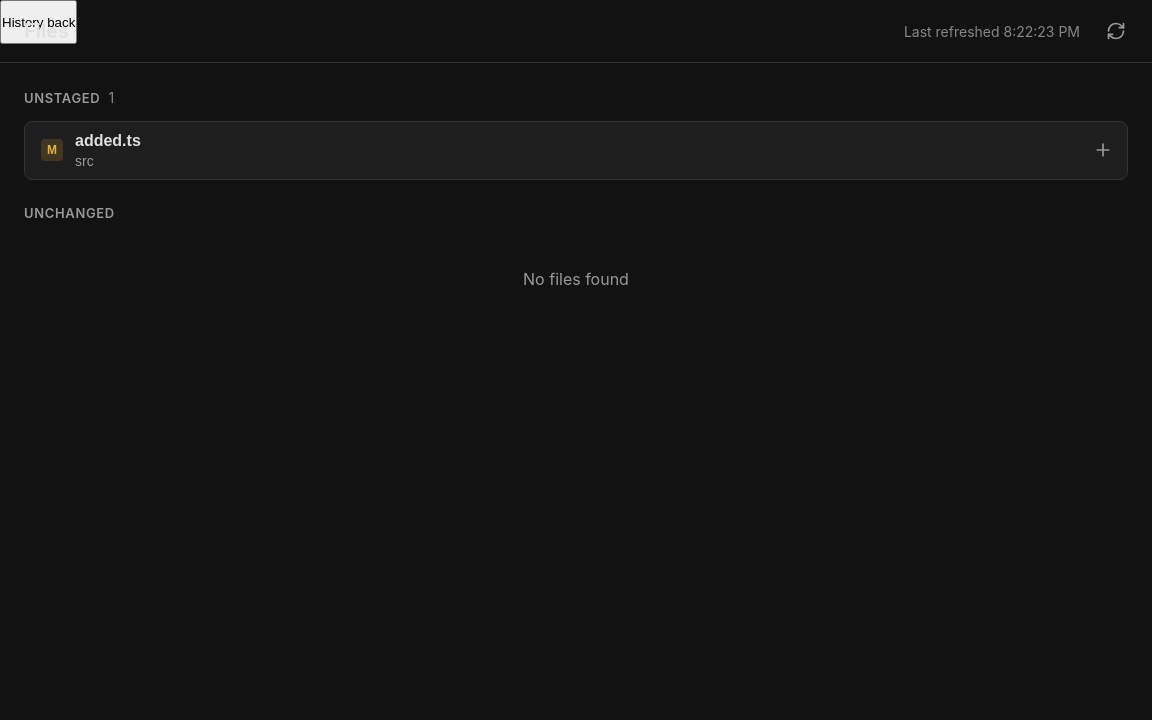
Test case: FilesPage › opens the editor with an empty base when no base version exists
Click the text "added.ts".
click(108, 140)  # box [75,132,141,148]
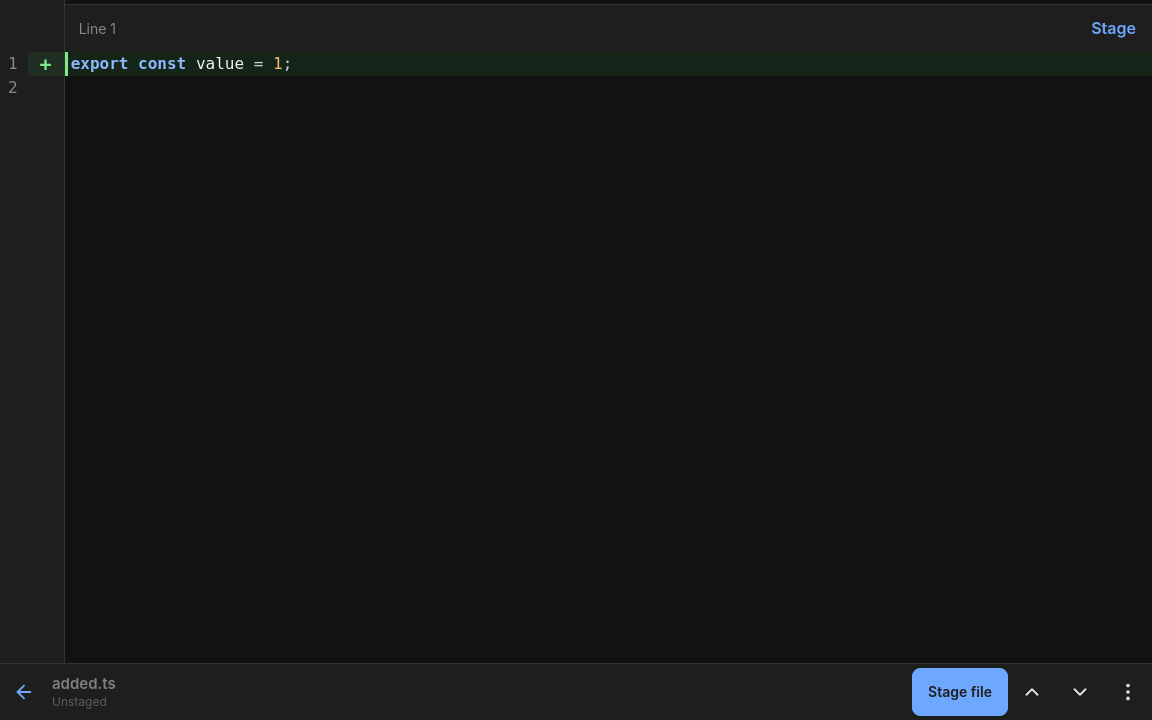
Now the button "Stage file" is shown, box [912,668,1008,716]
